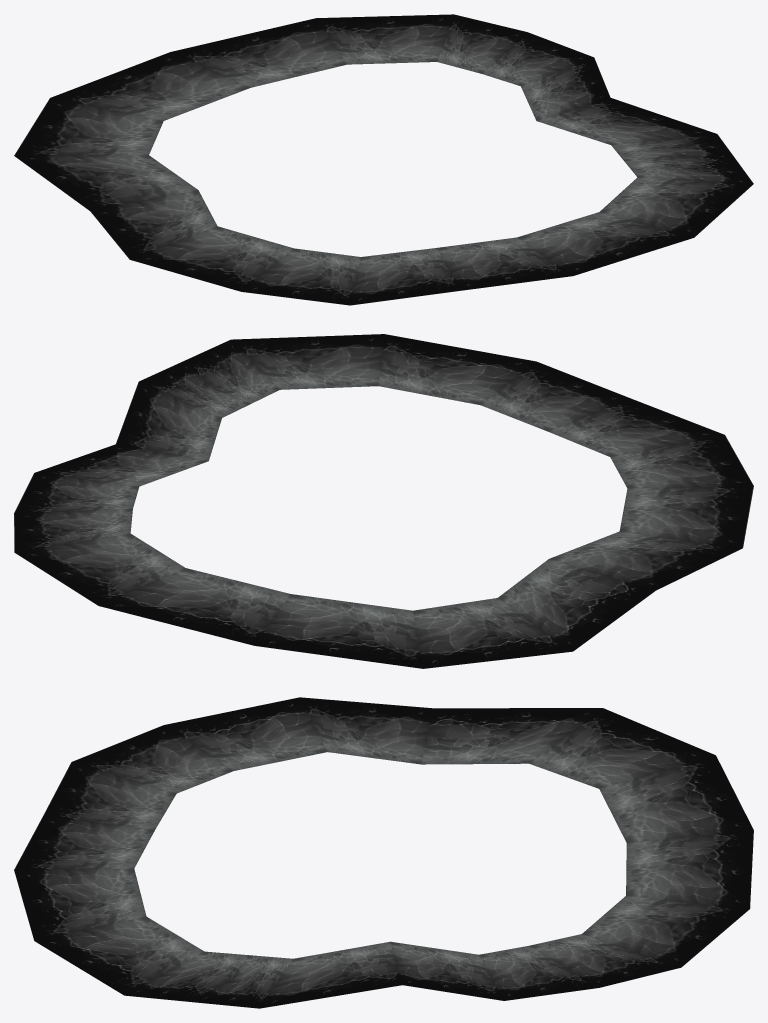
File: wavewall_mesa_02.fbx
3 views of the same model, one above another, from view 1: azimuth 30°, elevation 25°; view 2: azimuth 150°, elevation 25°; view 3: azimuth 270°, elevation 25° (orthographic). The views are drawn at different scales.
Visible parts, largest first — view 1: obj0.071; view 2: obj0.071; view 3: obj0.071.
Boxes of the visible parts, left/top/right/bottom form: obj0.071: left=14, top=14, right=753, bottom=305; obj0.071: left=14, top=334, right=753, bottom=668; obj0.071: left=14, top=697, right=753, bottom=1008.
Bounding box in the file's own units: 16.61 × 0.000401 × 16.68.
